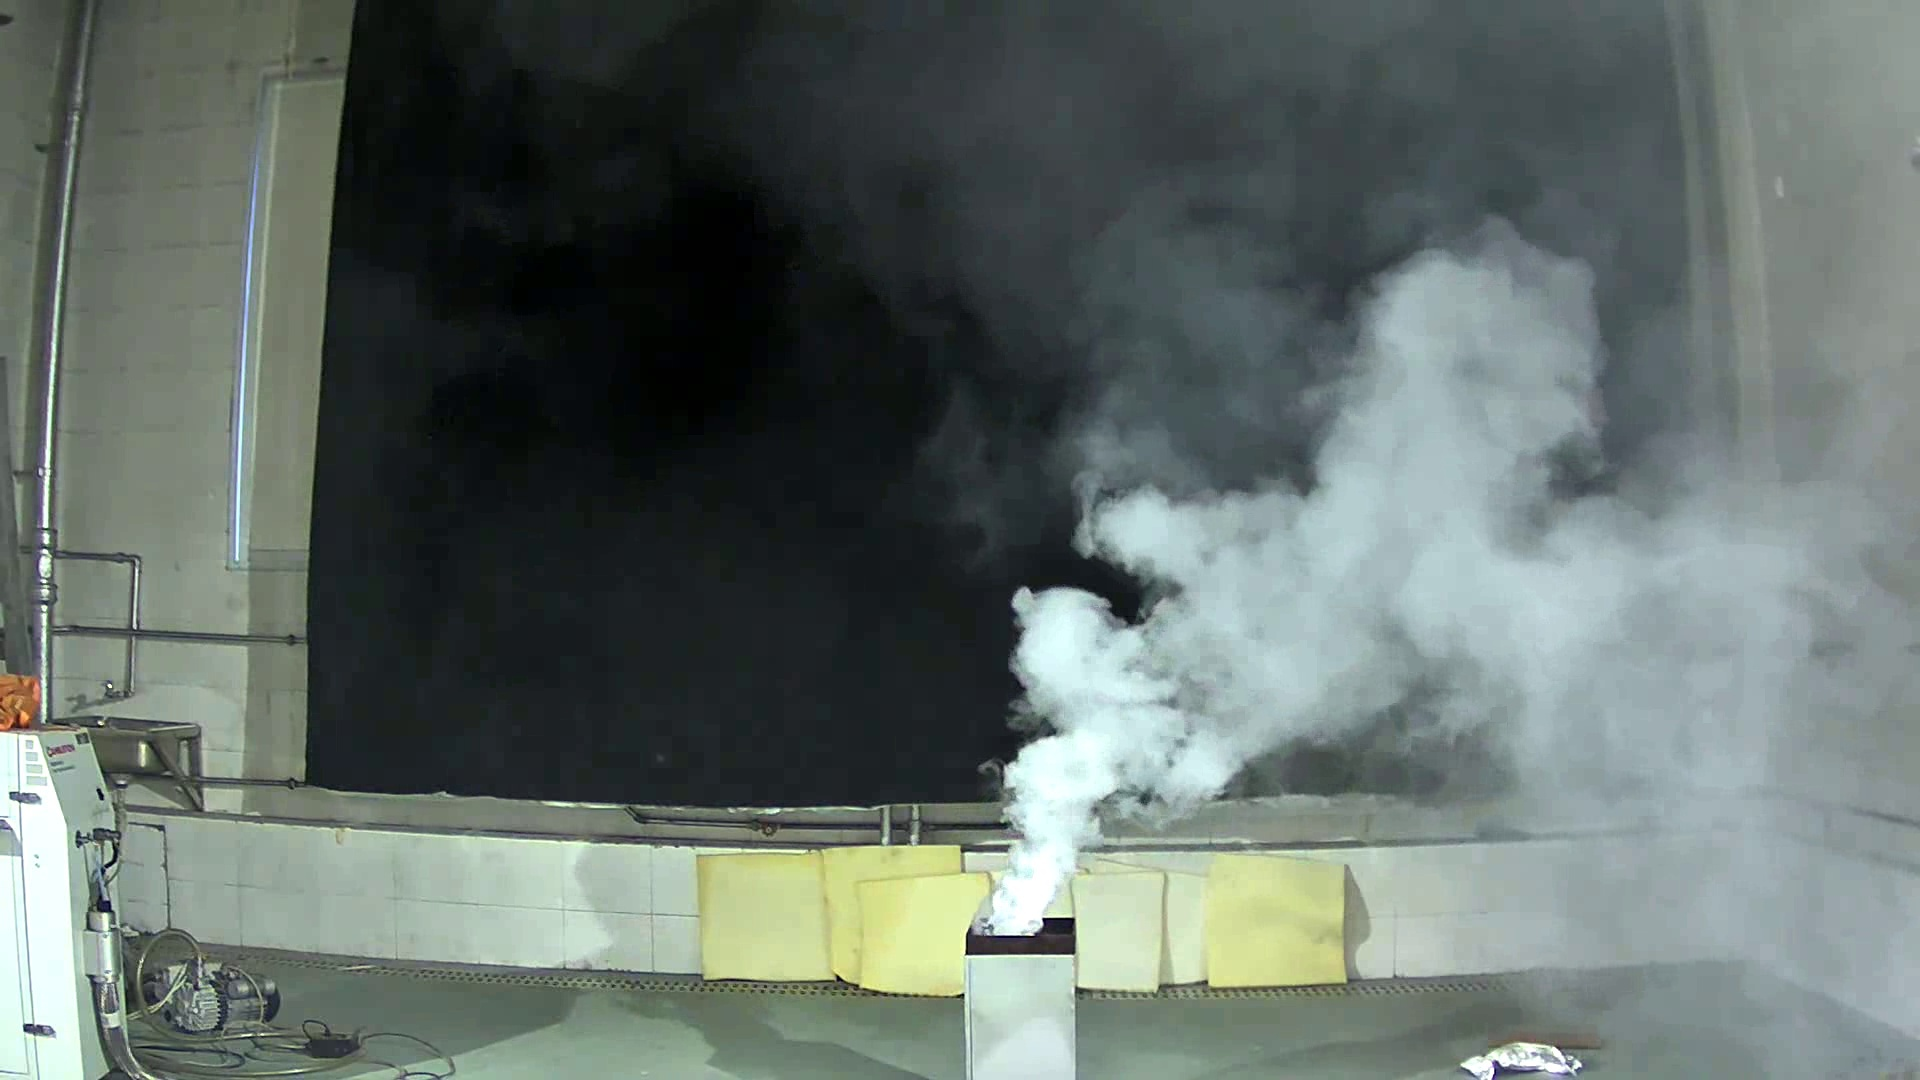smoke: (890, 142, 1746, 934)
